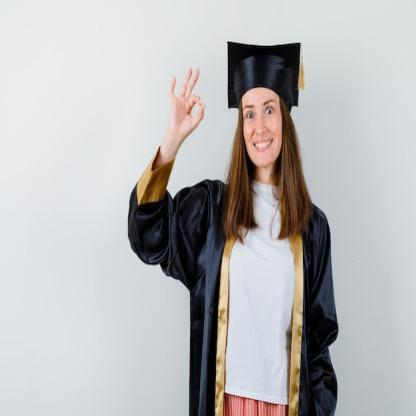ok: (168, 66, 206, 140)
